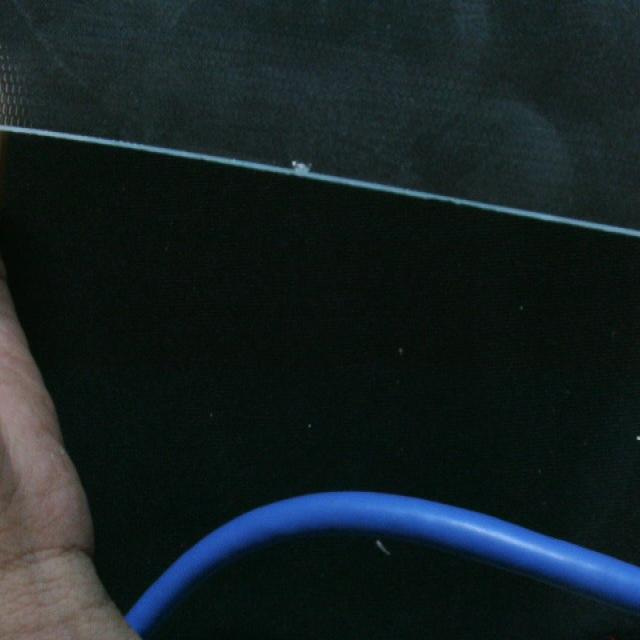edge_chip: (288, 147, 320, 183)
